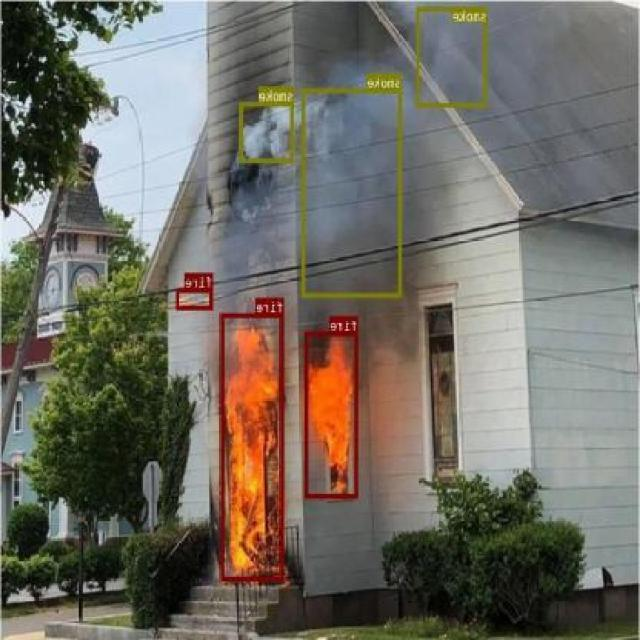Fire: (222, 312, 284, 580), (306, 331, 360, 497), (177, 288, 214, 310)
Smoke: (302, 88, 402, 297), (417, 6, 488, 106), (241, 100, 294, 162)
